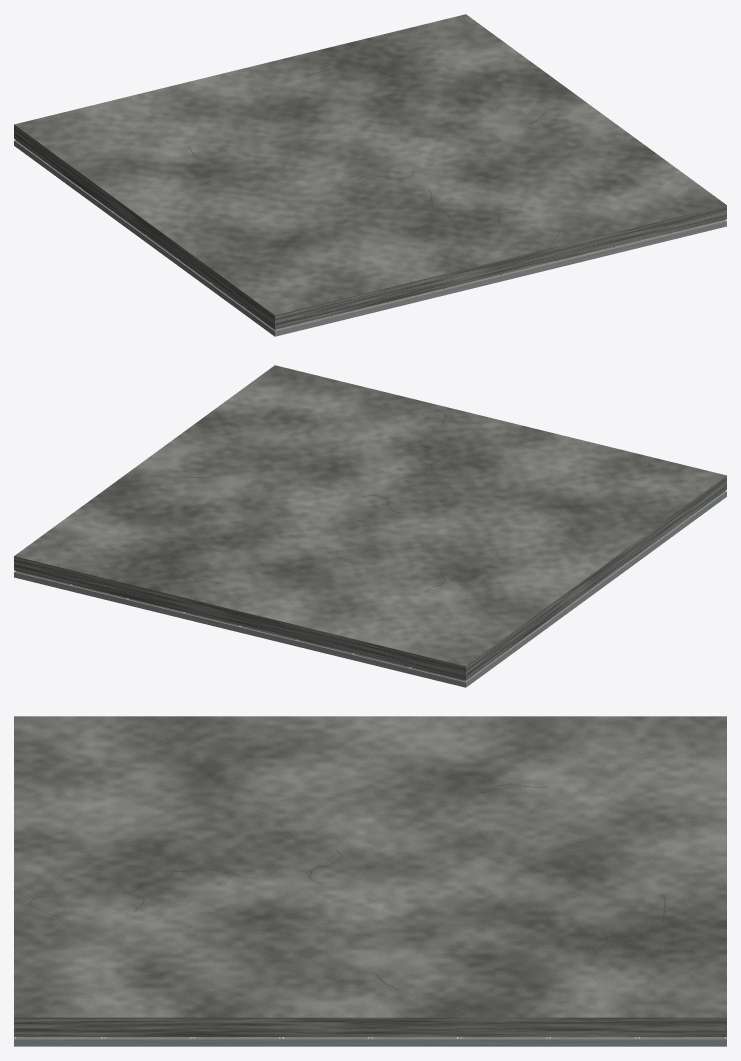
File: PZ_Ceiling_4m_Acoustic.glb
3 renders of one model, top to bottom at view 1: azimuth 30°, elevation 25°; view 2: azimuth 150°, elevation 25°; view 3: azimuth 270°, elevation 25°, orthographic. The views are drawn at different scales.
Parts seen in each view (by area): view 1: Ceiling_Structural_Back, Ceiling_TGrid_Rails_Z, Ceiling_TGrid_Rails_X, Ceiling_Acoustic_64_Panels; view 2: Ceiling_Structural_Back, Ceiling_TGrid_Rails_Z, Ceiling_TGrid_Rails_X, Ceiling_Acoustic_64_Panels; view 3: Ceiling_Structural_Back, Ceiling_TGrid_Rails_X, Ceiling_Acoustic_64_Panels.
Boxes of the visible parts, box(x1,y1,x2,y2) form: Ceiling_Structural_Back: box(14, 14, 726, 329); Ceiling_TGrid_Rails_Z: box(14, 140, 726, 336); Ceiling_TGrid_Rails_X: box(14, 140, 726, 336); Ceiling_Acoustic_64_Panels: box(16, 140, 724, 330); Ceiling_Structural_Back: box(14, 365, 726, 680); Ceiling_TGrid_Rails_Z: box(14, 491, 725, 687); Ceiling_TGrid_Rails_X: box(14, 491, 726, 687); Ceiling_Acoustic_64_Panels: box(16, 491, 724, 681); Ceiling_Structural_Back: box(14, 716, 726, 1036); Ceiling_TGrid_Rails_X: box(14, 1038, 726, 1046); Ceiling_Acoustic_64_Panels: box(16, 1037, 724, 1038).
Bounding box in the file's own units: 4 × 0.18 × 4.
3 materials, 3 textured.
